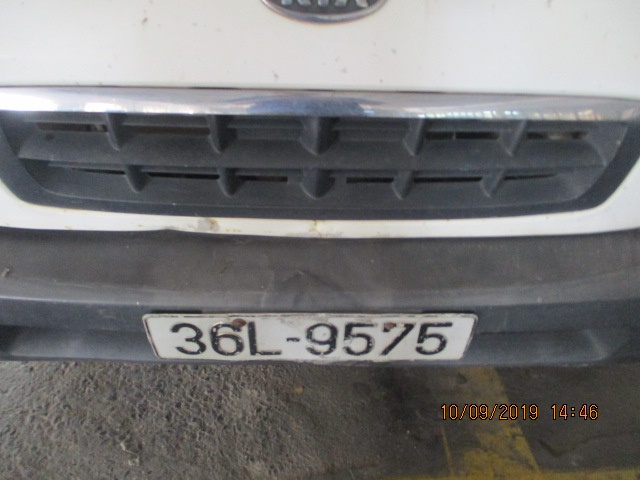number_plate: (162, 315, 453, 358)
